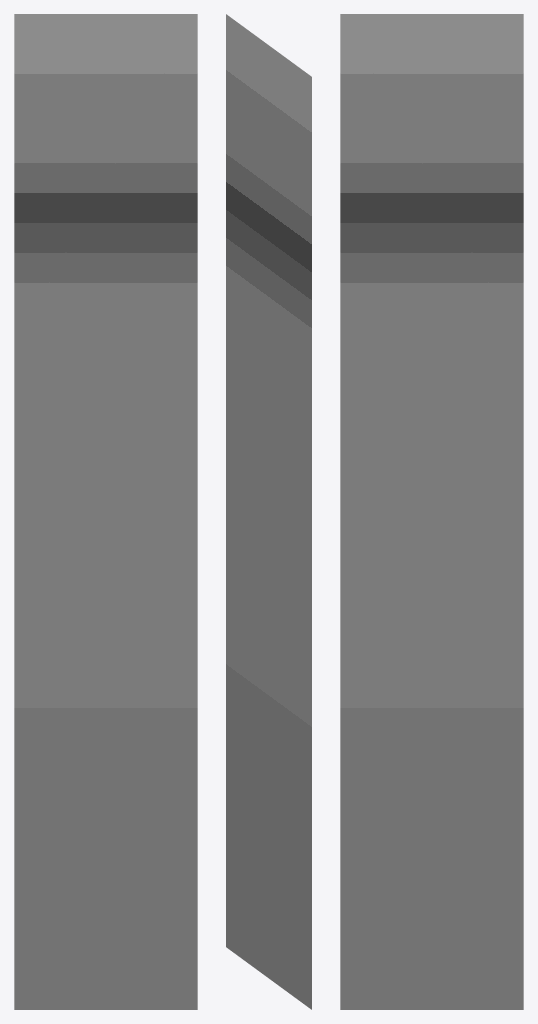
The picture shows the model from 3 angles, left to right: view 1: azimuth 90°, elevation 25°; view 2: azimuth 210°, elevation 25°; view 3: azimuth 270°, elevation 25°; orthographic projection. The views are drawn at different scales.
Bounding box in the file's own units: 0 × 3 × 0.5.
1 material, 1 textured.
